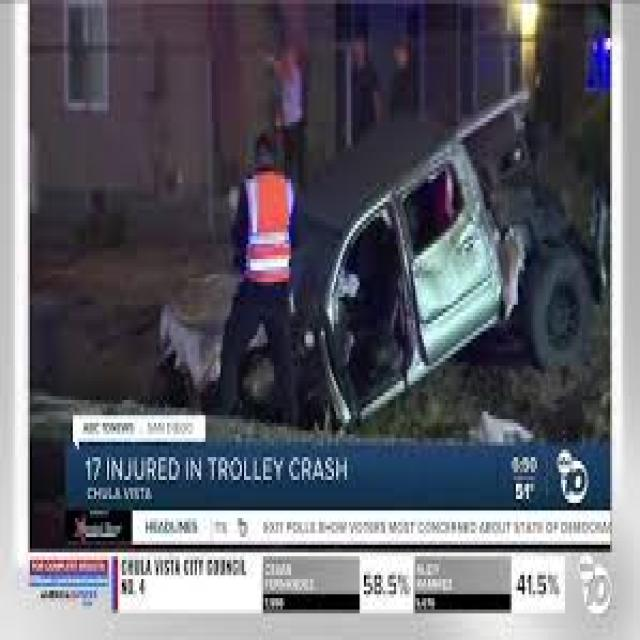Accident: (157, 59, 605, 444)
